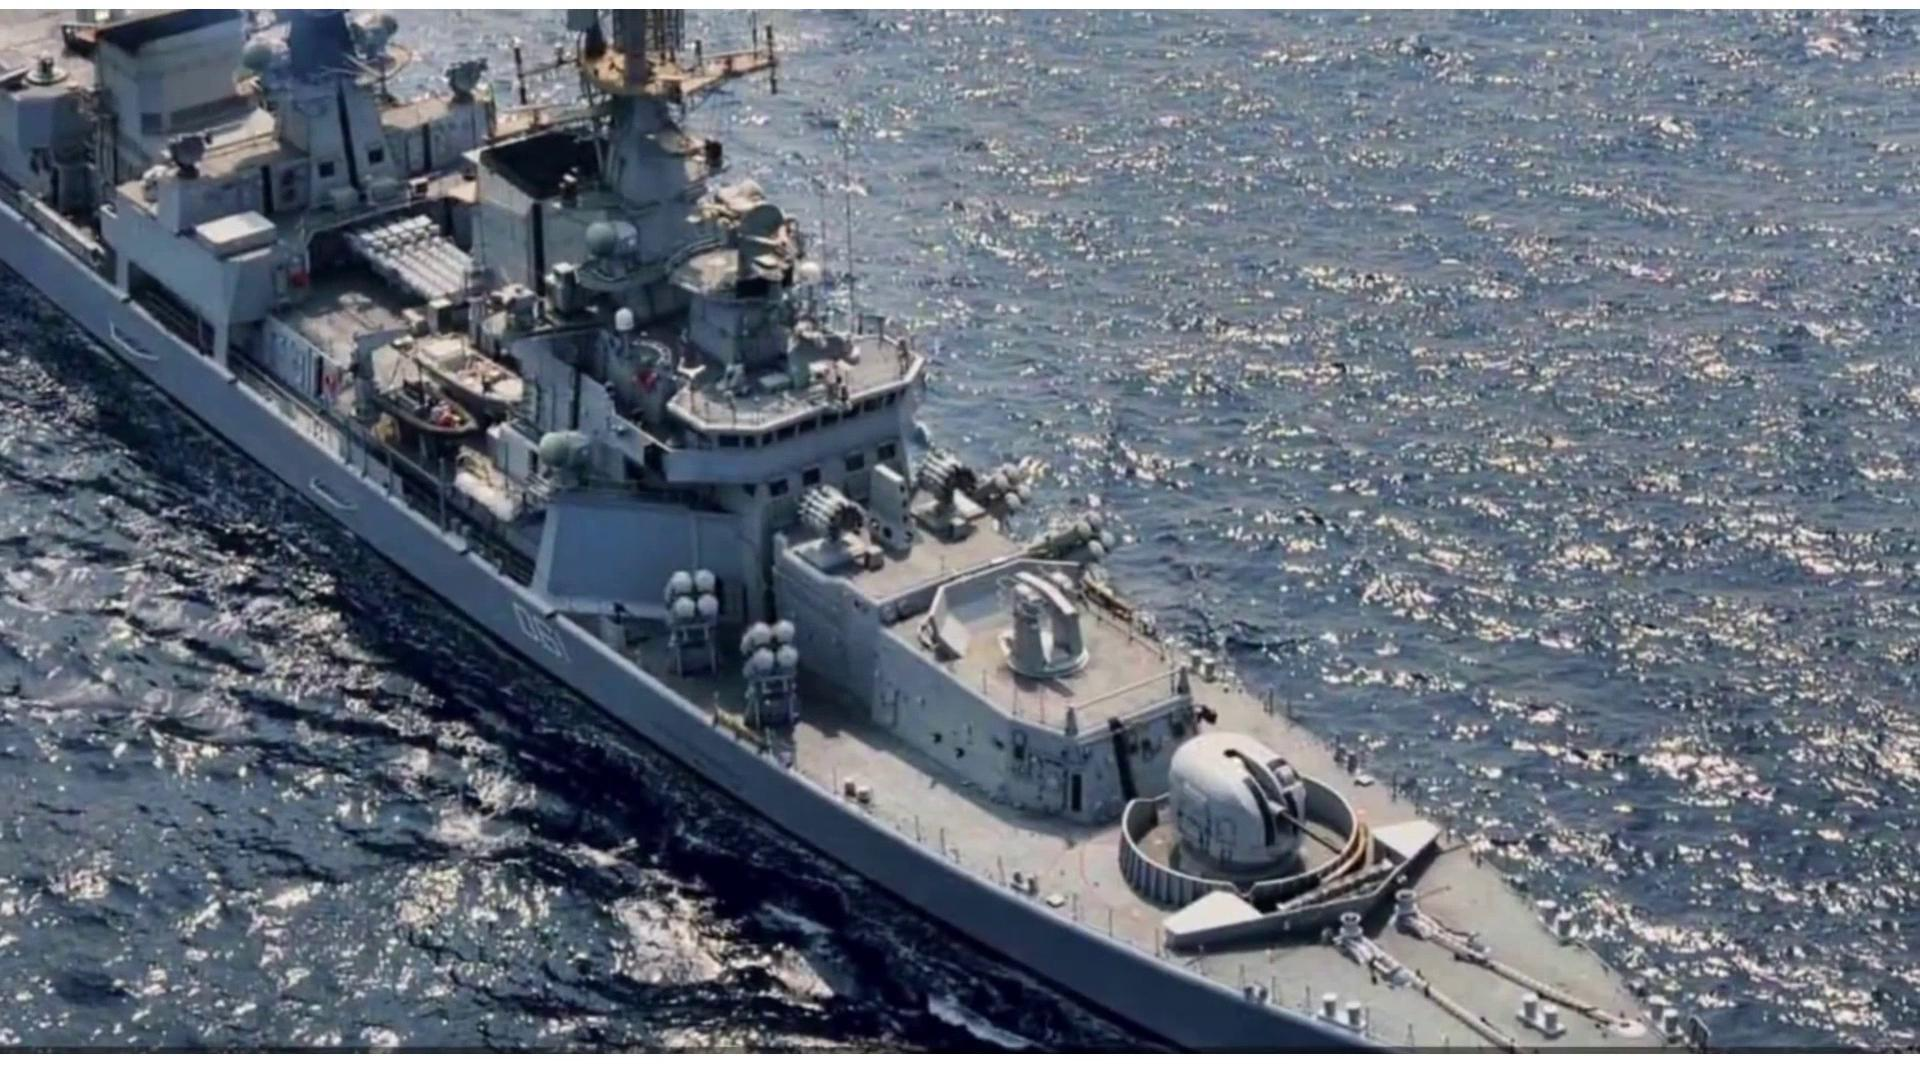OCR: (497, 591, 576, 672)
